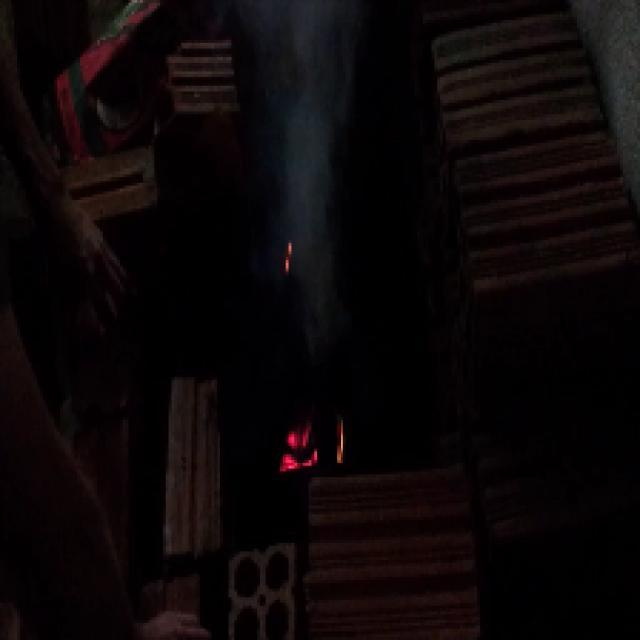Smoke: (252, 13, 344, 332)
